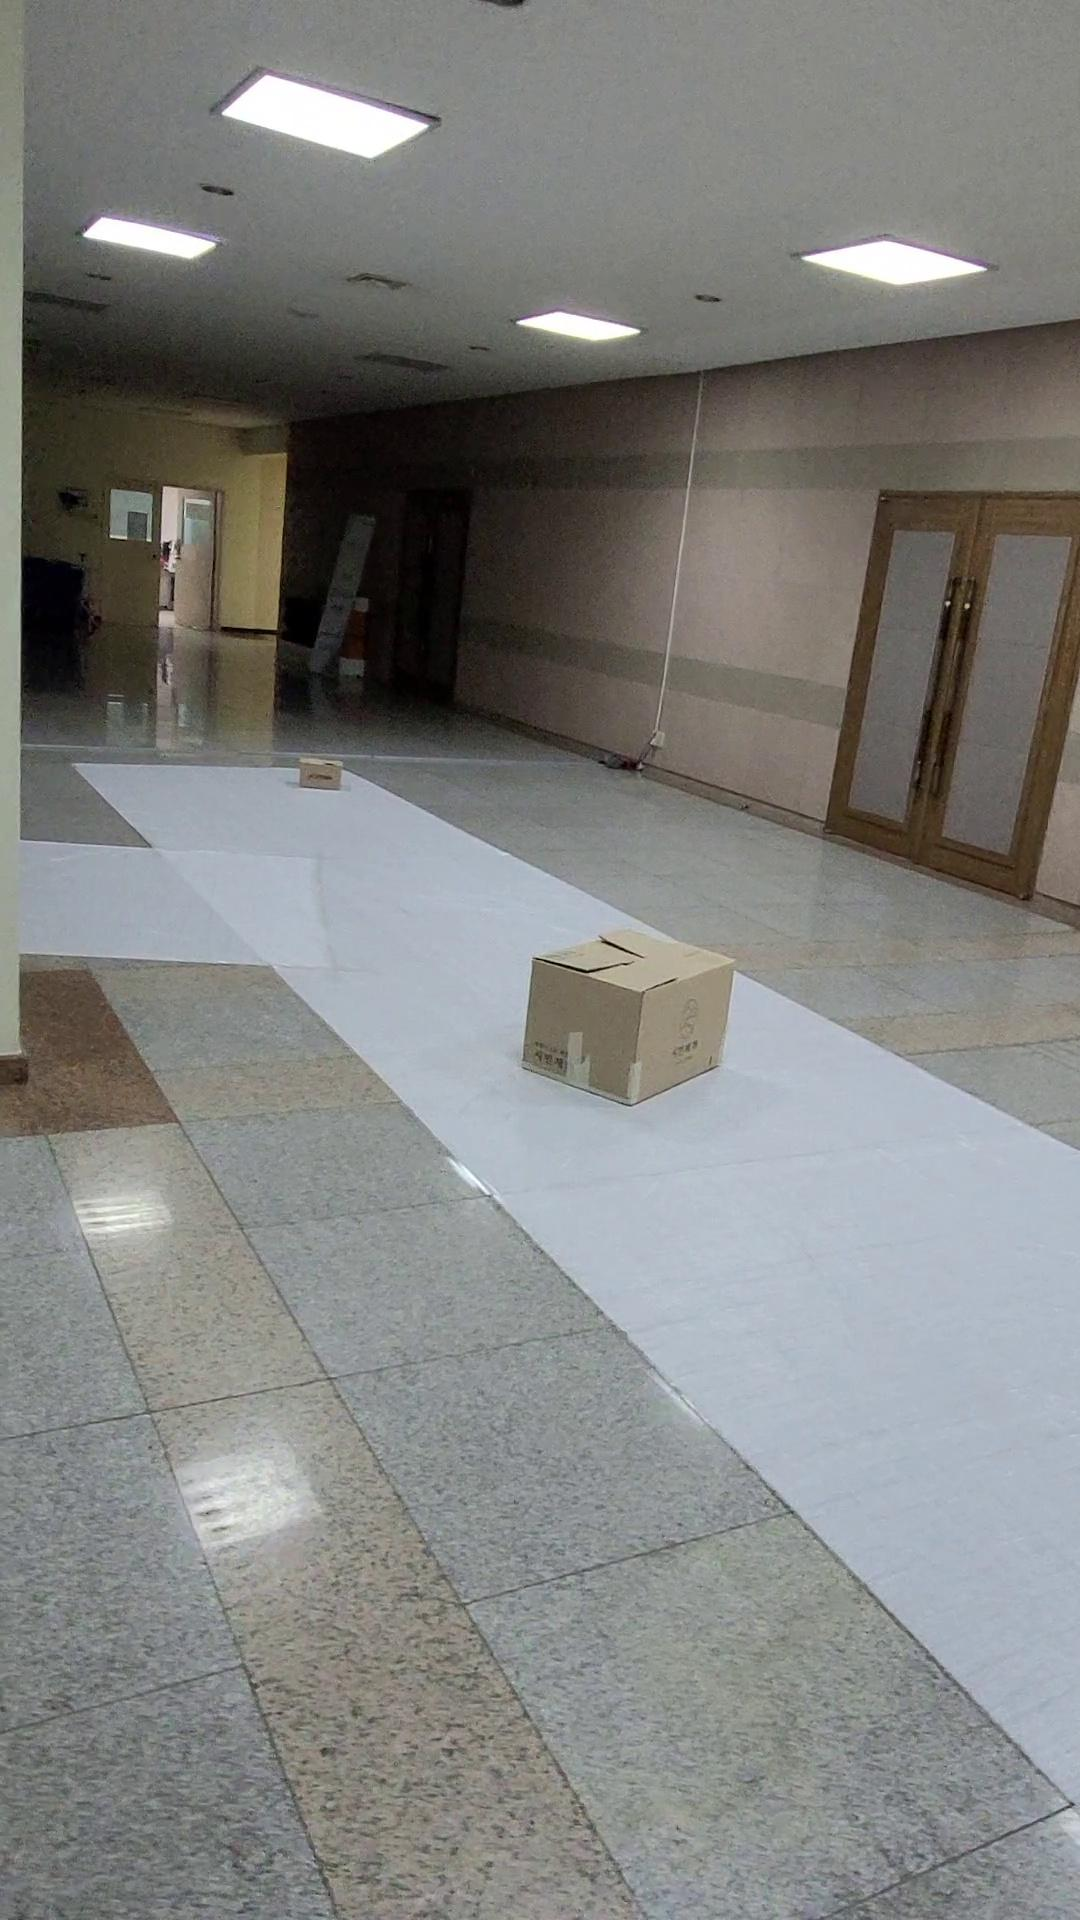Box: (458, 865, 799, 1150), (262, 742, 371, 814)
